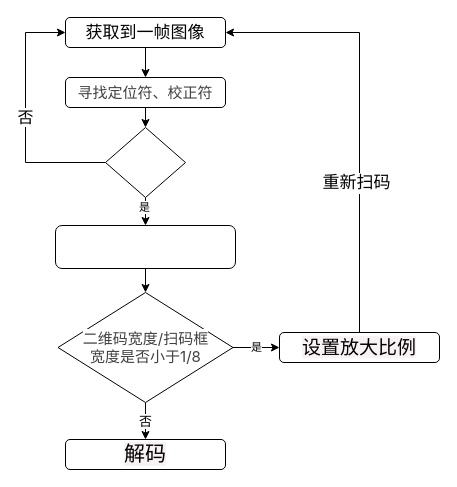
The diagram is 457 pixels wide and 487 high, and some of its shapes have lost their labels. Here are the shapes that lost their labels. From the top down, the centre of each, then its label:
At [145,162]: "是否存在".
At [145,246]: "根据定位信息 计算二维码宽度".
